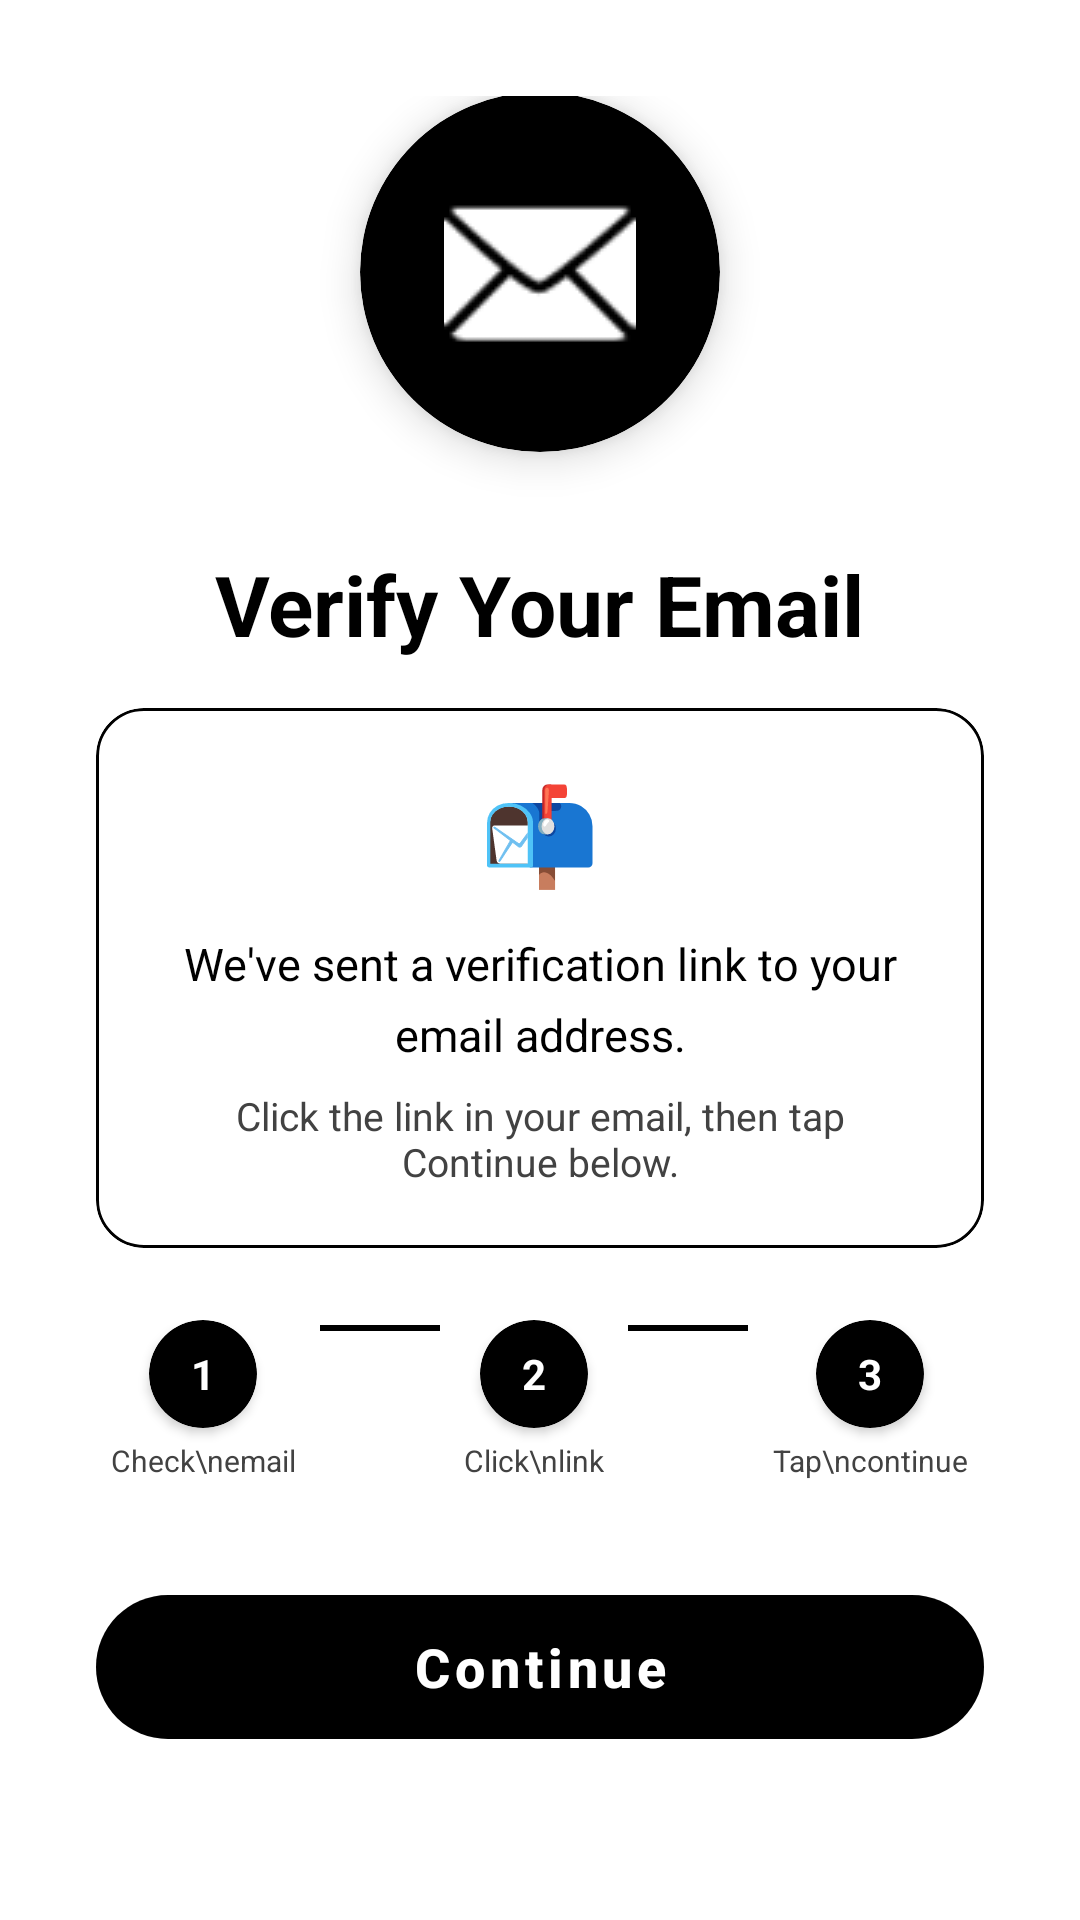

Where to tap for icons on this 1080w x 1920h app screen, as (x,y):
Email verification: (540,273)
